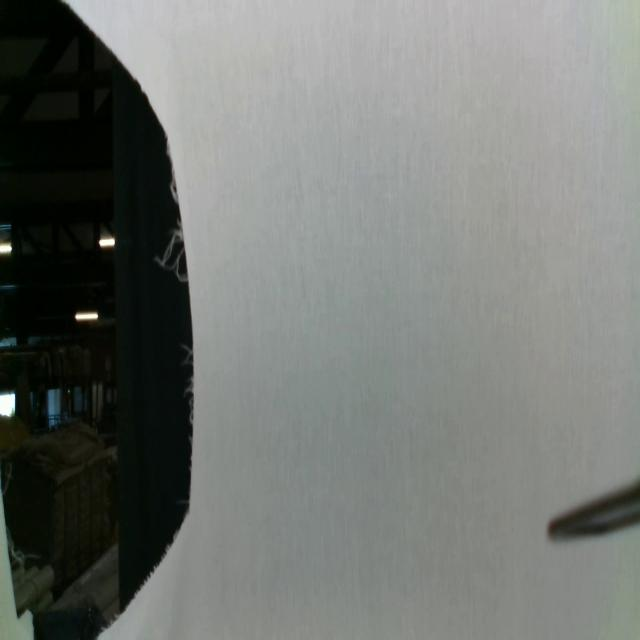hole: (0, 0, 196, 640)
